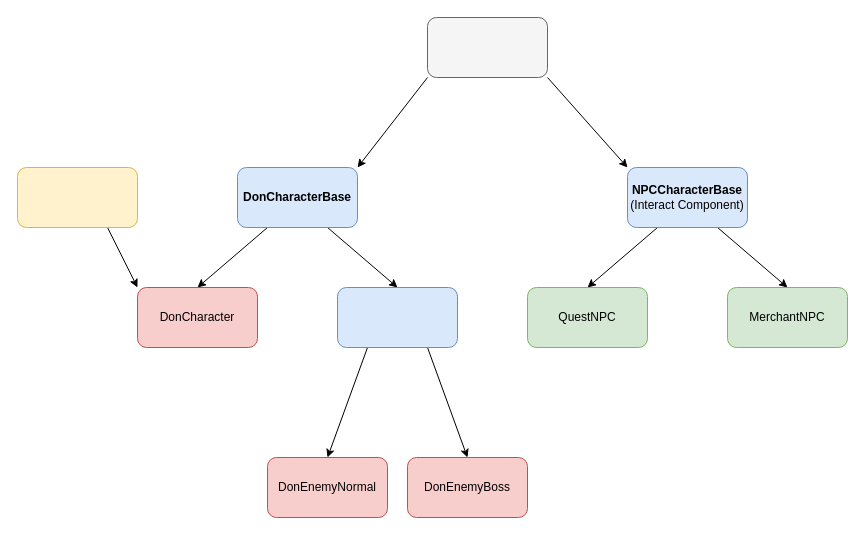
Some shapes in this 865 by 535 pixel diagram are drawn without their labels. Here are the shapes that lost their labels. From the top down, the centre of each, then its label:
At pixel 487 47: "Character".
At pixel 77 197: "DonPlayerState (Inventory, ASC, AS)".
At pixel 397 317: "DonEnemy".
